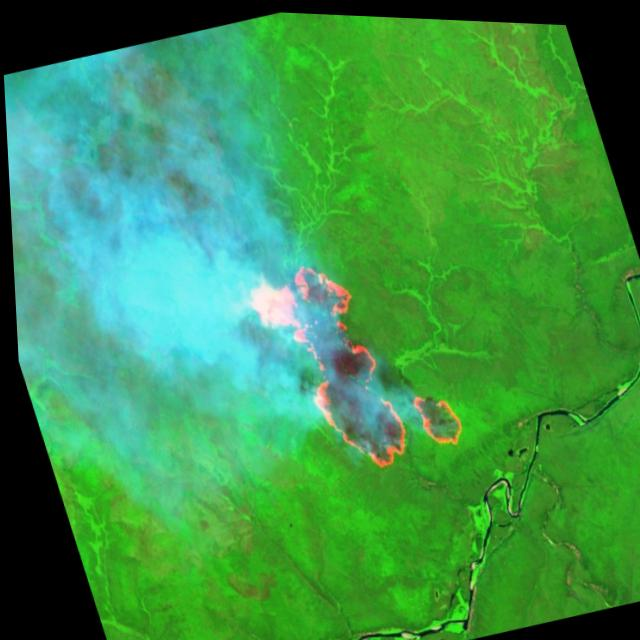fire: (234, 238, 414, 488), (403, 375, 467, 451)
